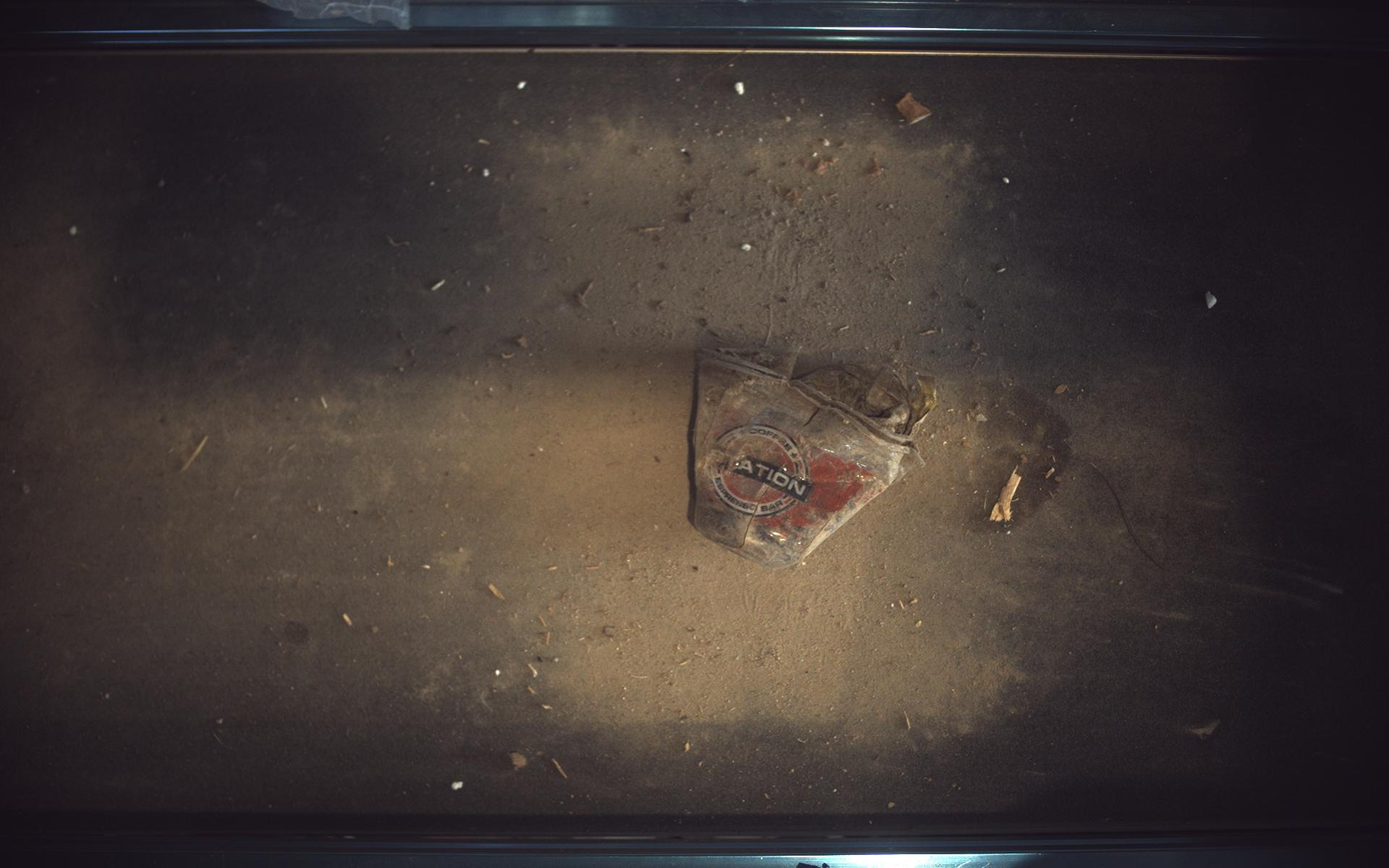general_w: (693, 347, 938, 567)
